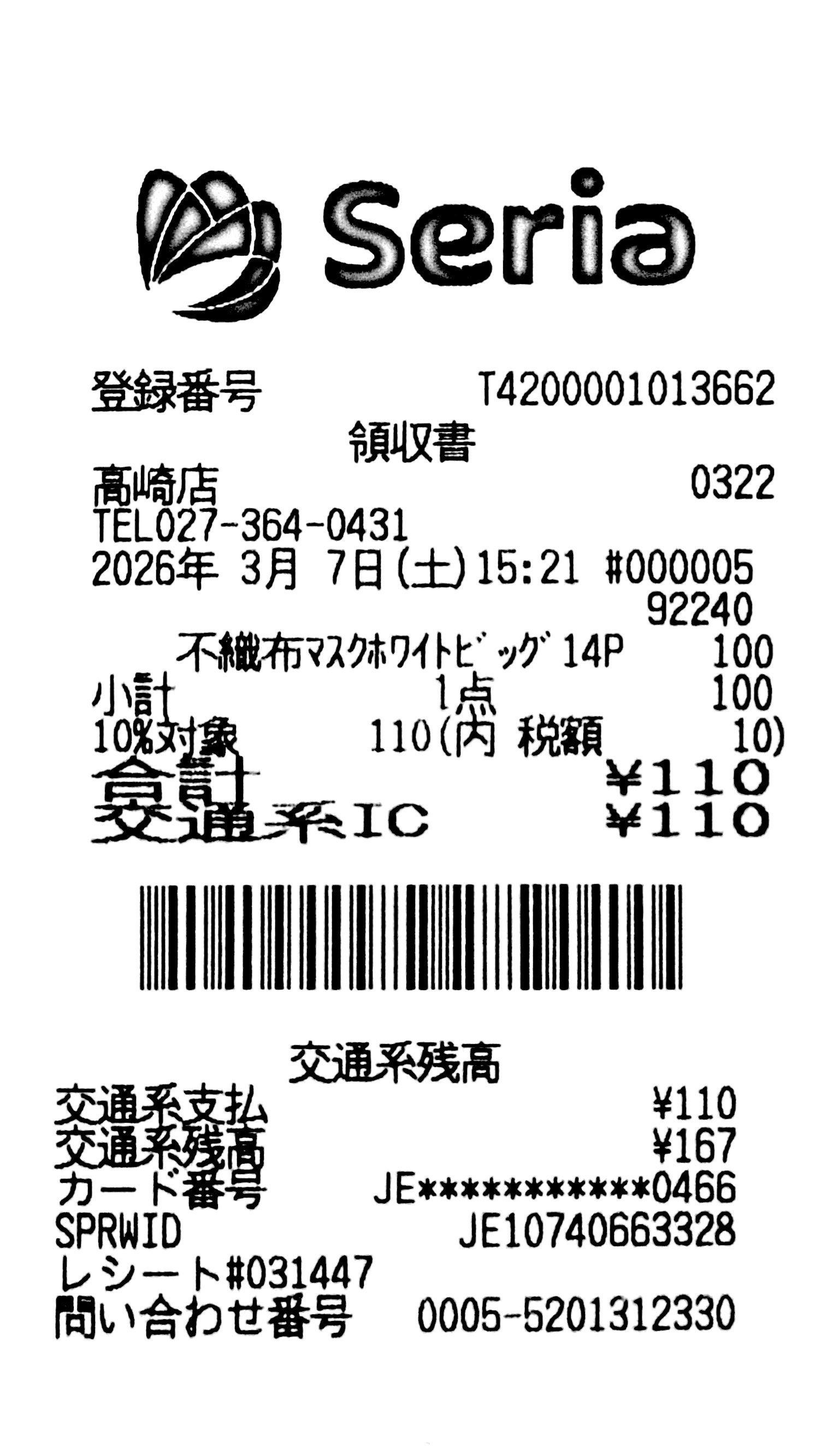Date: (91, 549, 382, 592)
Pay: (90, 755, 769, 802)
Shopname: (322, 165, 696, 290)
Telnum: (155, 507, 410, 542)
